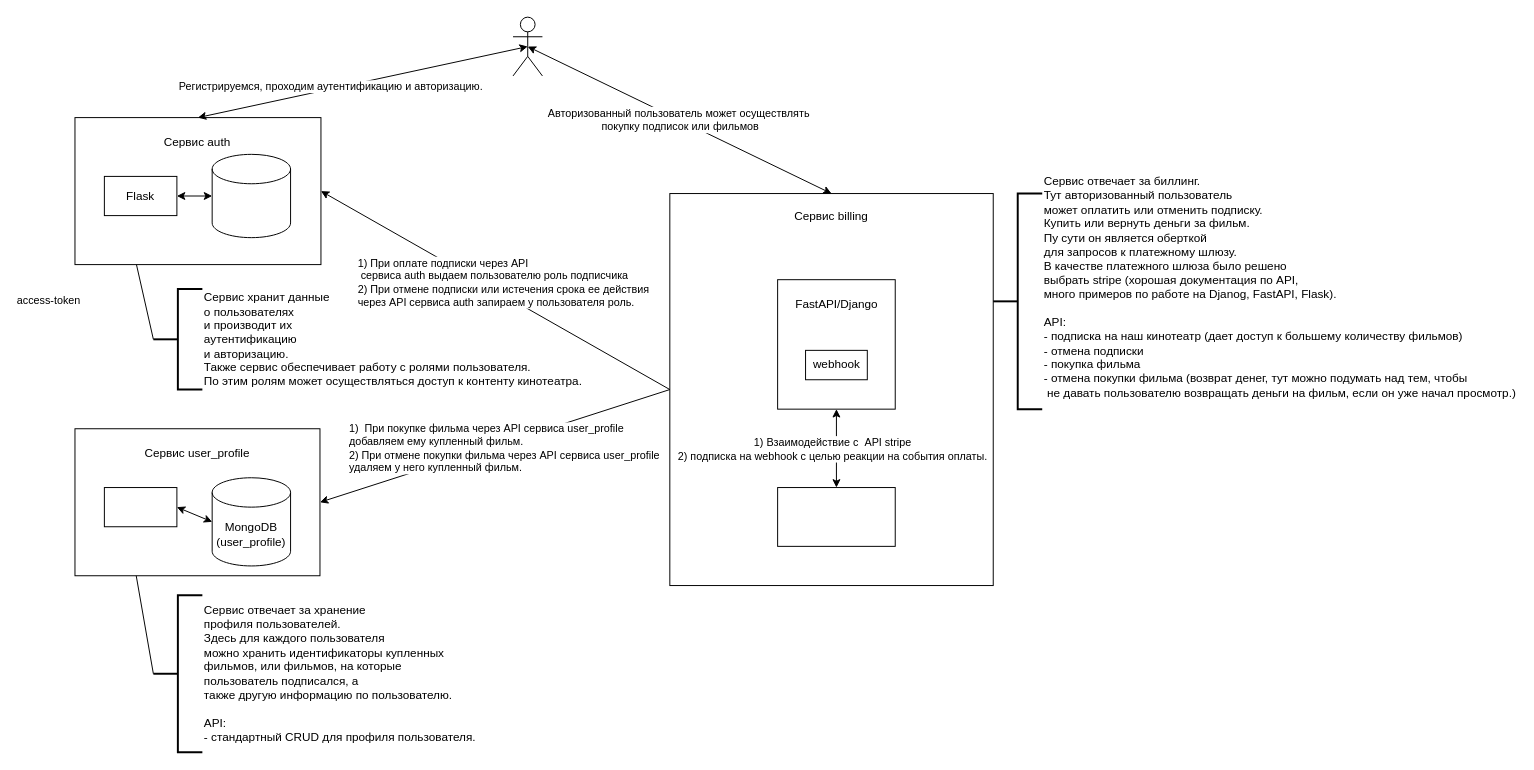
Image size: 1534x770. Some labels were removed from this diagram. Here are the shapes that lost their labels. From the top down, the box of each, then its label:
(512, 16, 542, 76): client
(211, 153, 291, 238): PostgreSQL (User-data)
(103, 487, 177, 527): FastApi
(777, 487, 895, 546): stripe
